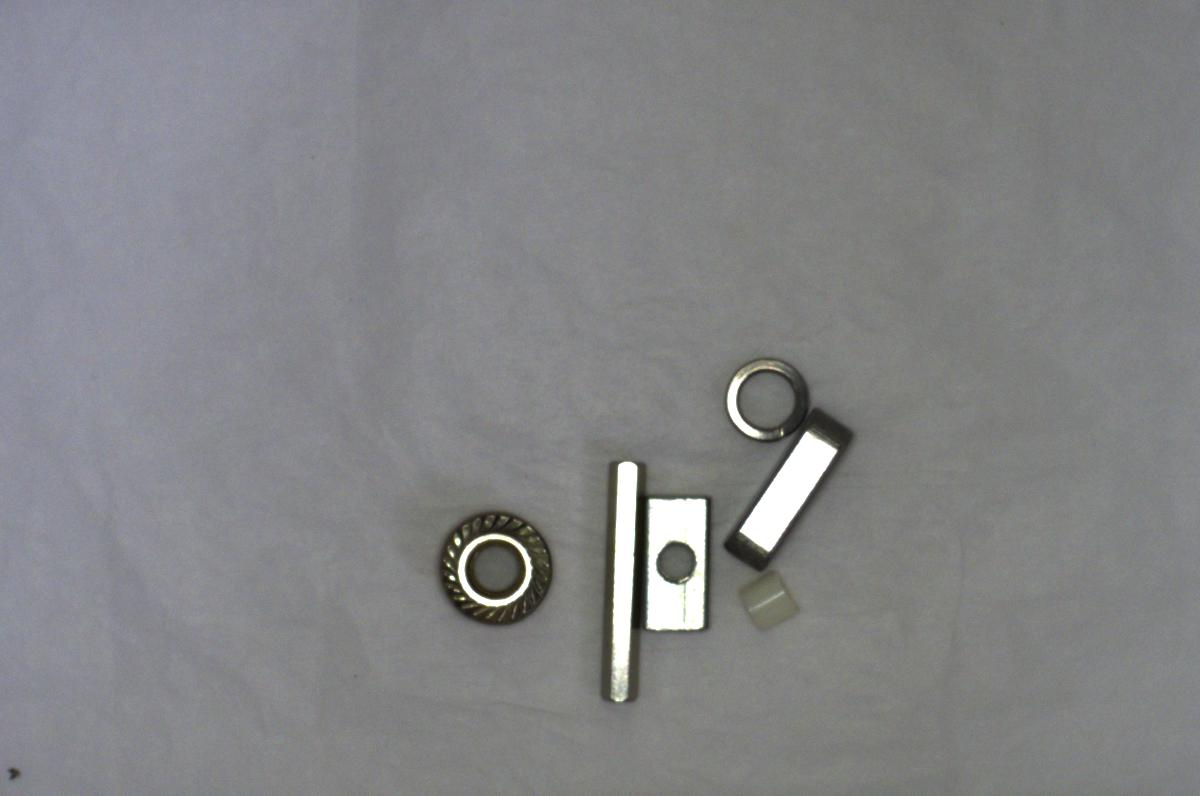Flange nut: (435, 495, 564, 635)
Keybar: (708, 407, 860, 567)
Plastic cushion pillar: (732, 566, 802, 635)
Rectangular nut: (640, 486, 717, 636)
Spring washer: (590, 448, 639, 706), (713, 345, 811, 452)
